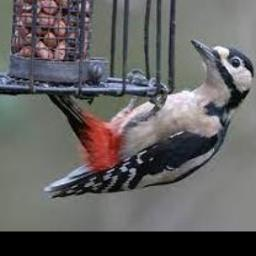Woodpecker: (44, 38, 255, 198)
